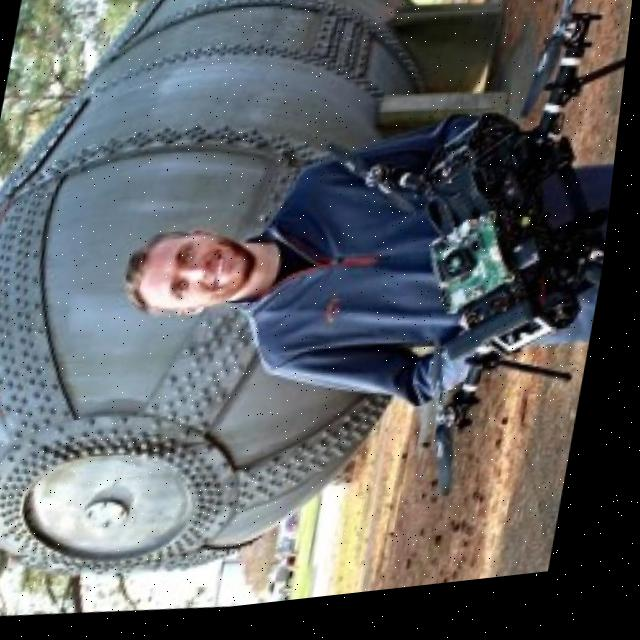drones: (259, 0, 640, 530)
